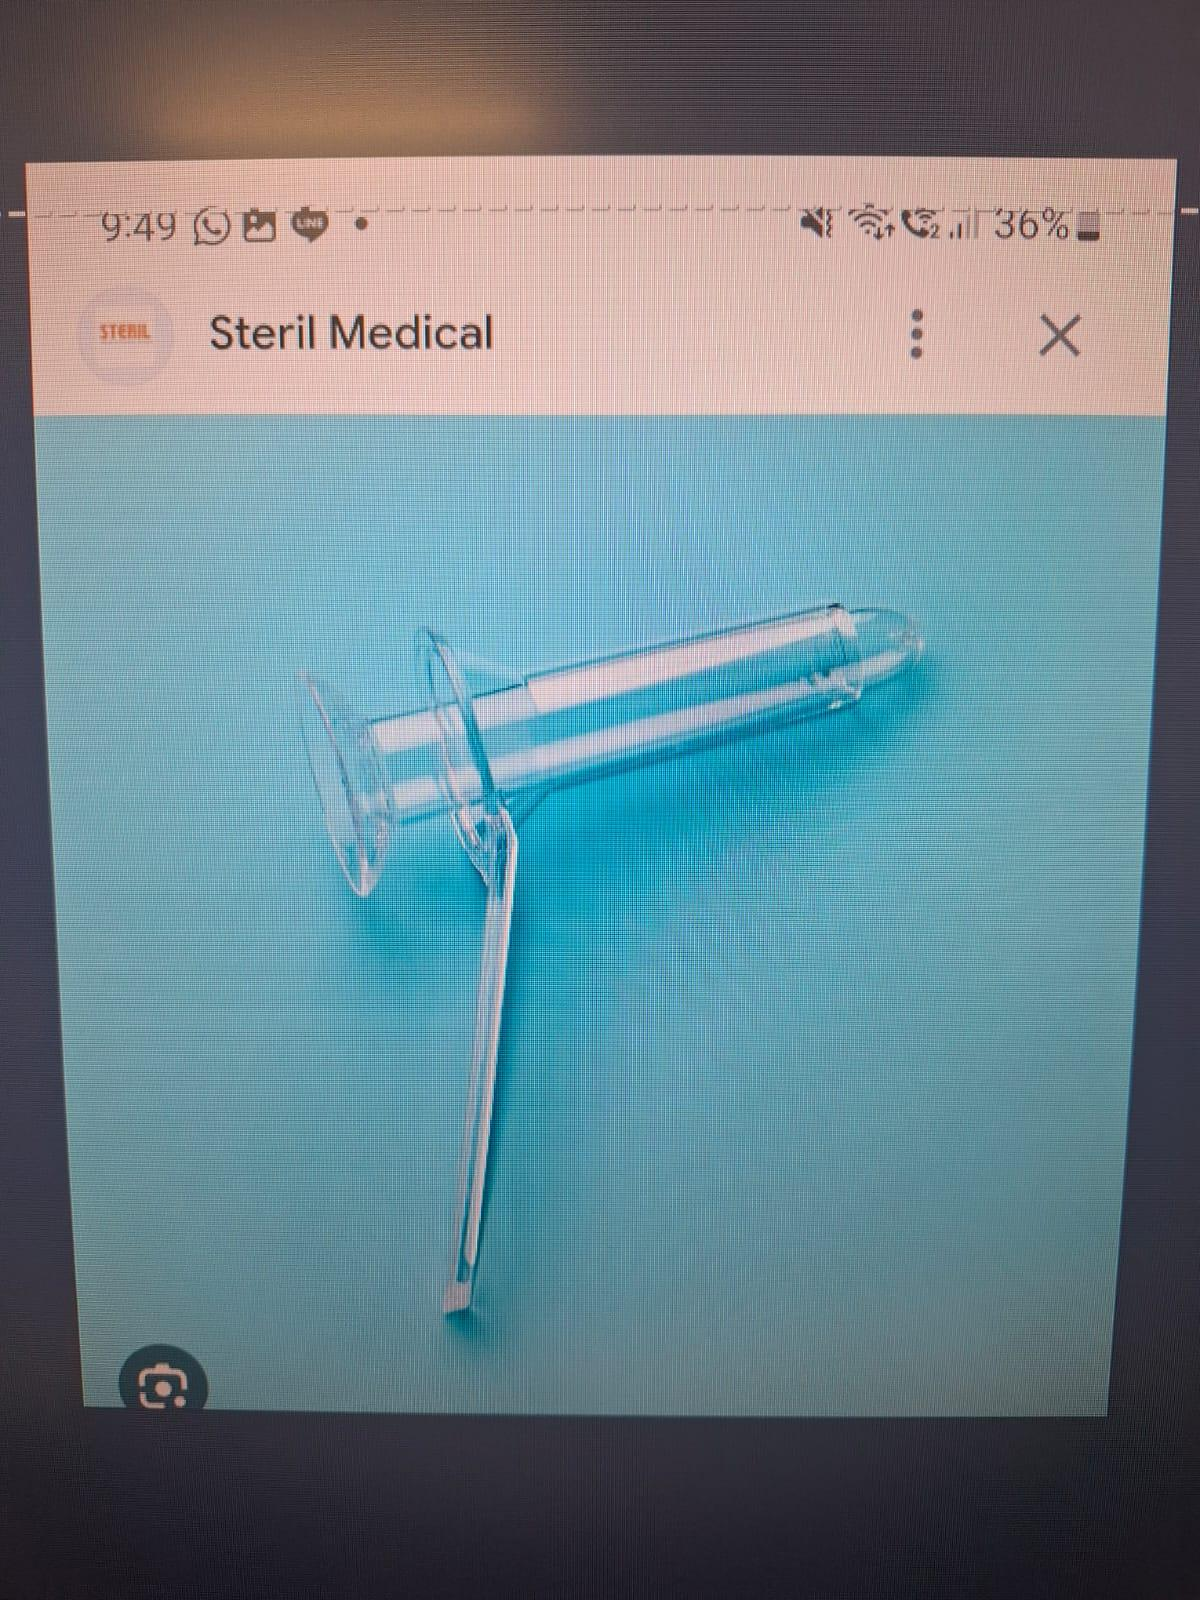Protoscope: (287, 587, 950, 1346)
